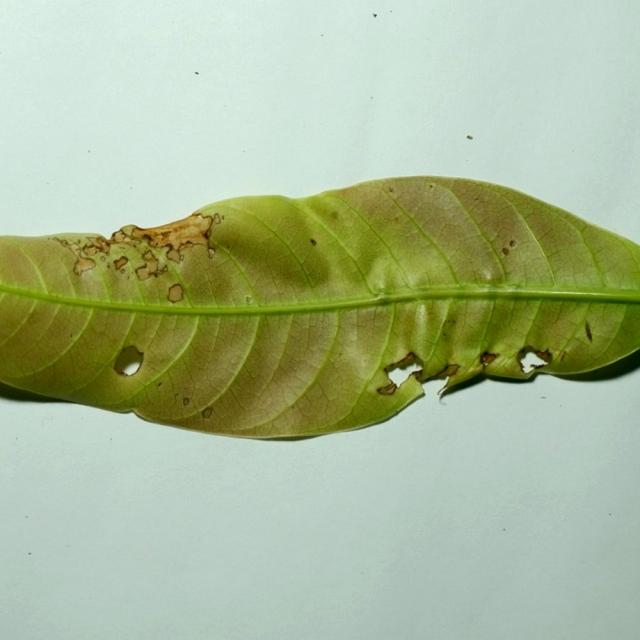Anthracnose: (117, 212, 220, 258), (78, 234, 164, 285), (136, 248, 183, 303), (55, 237, 109, 277), (379, 353, 424, 393), (516, 346, 552, 373), (133, 251, 163, 281), (423, 364, 460, 386), (72, 256, 96, 276), (390, 352, 417, 369), (80, 242, 106, 257), (118, 225, 141, 239), (500, 240, 517, 257), (480, 351, 498, 367), (376, 383, 397, 396), (165, 247, 181, 264), (534, 349, 552, 362), (443, 364, 461, 377), (113, 256, 129, 270), (142, 249, 156, 264), (112, 230, 128, 242), (585, 321, 593, 342), (157, 264, 169, 276), (142, 233, 155, 243), (202, 407, 213, 418), (558, 350, 568, 362), (207, 247, 216, 258), (213, 213, 222, 224), (502, 247, 510, 256), (182, 397, 190, 406), (392, 216, 400, 223), (509, 240, 516, 247), (309, 239, 316, 246)
Mango: (0, 177, 639, 445)
